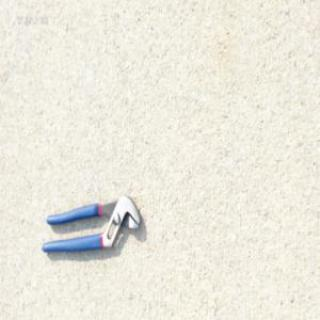Pliertrack_idkeyframe: (40, 192, 142, 255)
